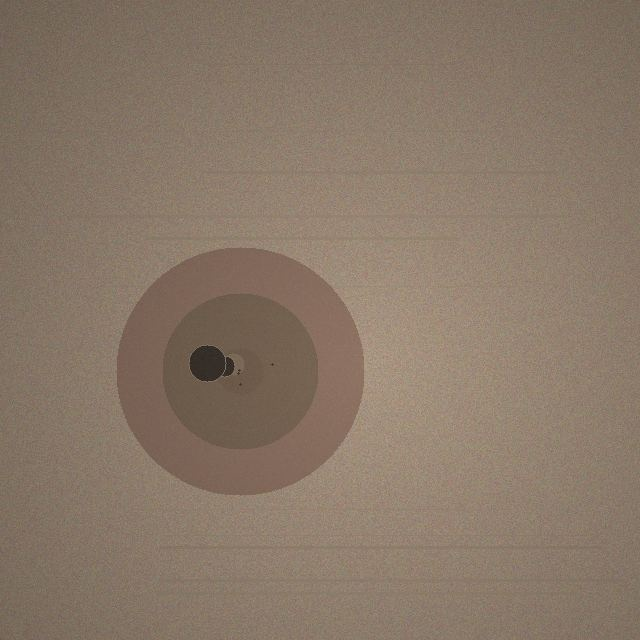shrinkage: (116, 247, 364, 495)
